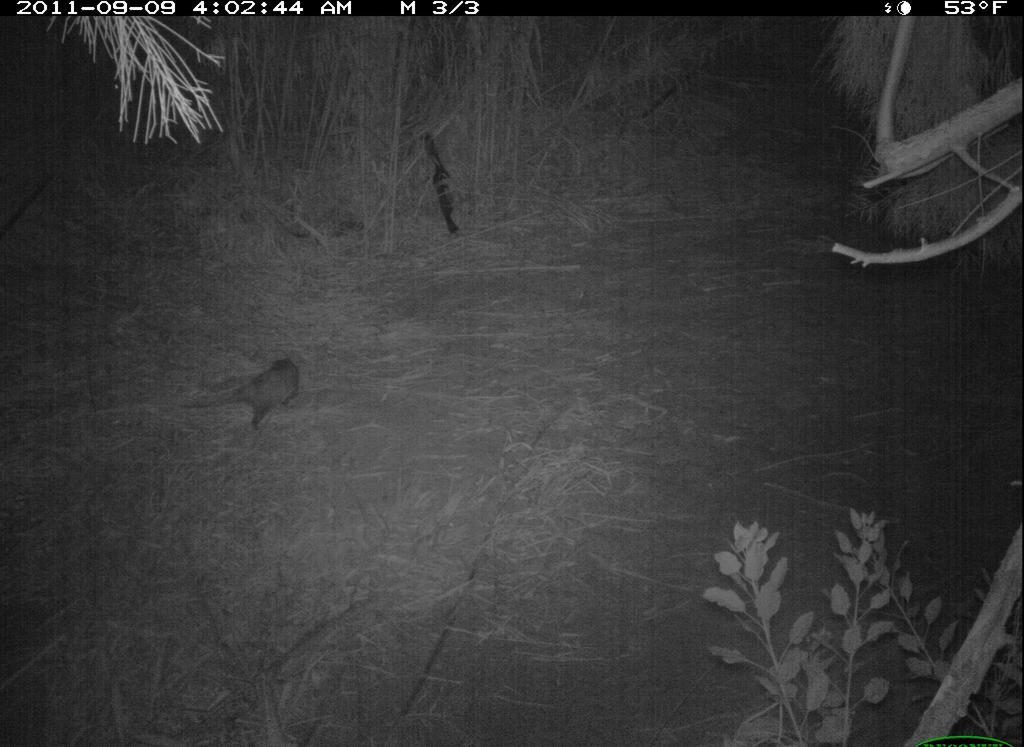opossum: (163, 351, 319, 450)
